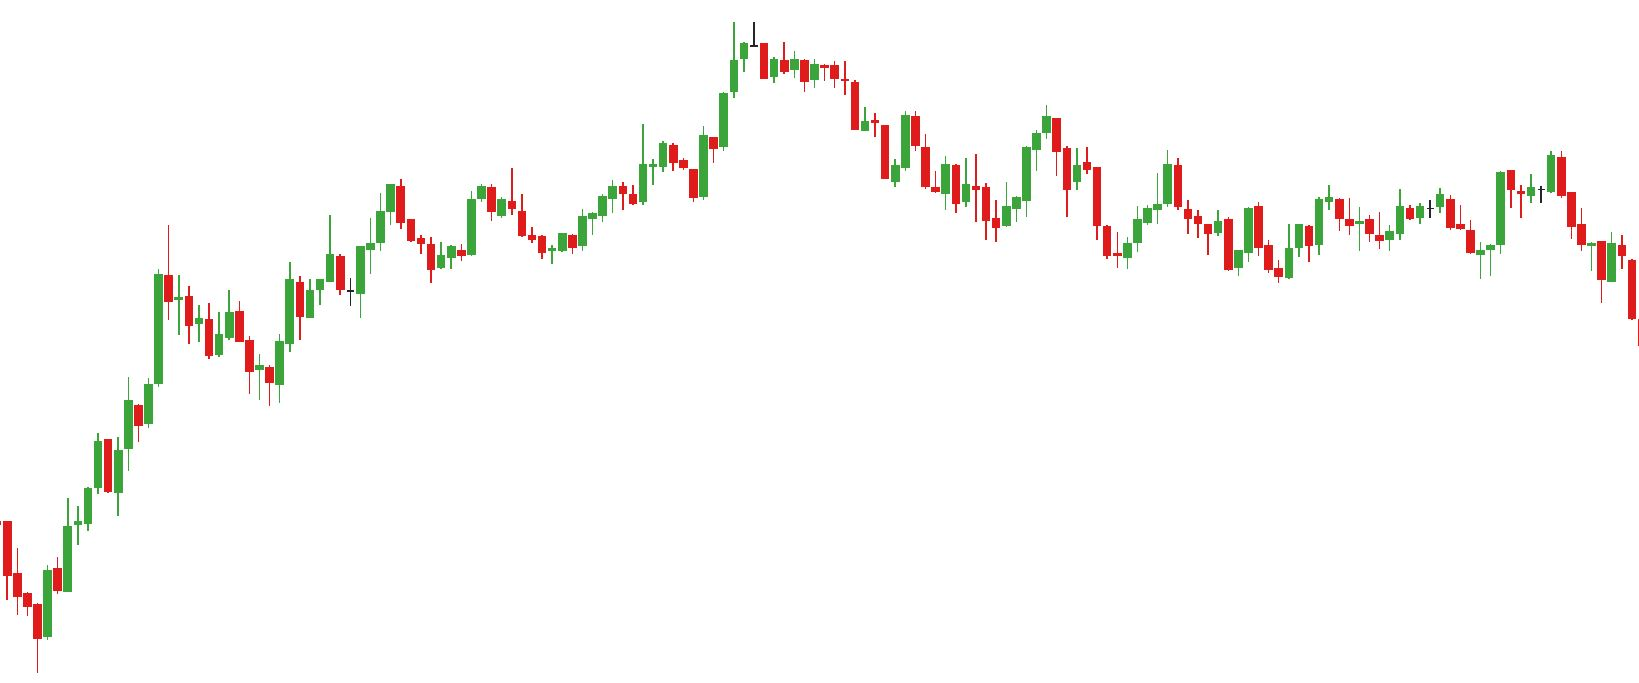buy: (1373, 203, 1495, 282)
sell: (961, 104, 1064, 193), (325, 175, 407, 263), (1507, 138, 1567, 220)
